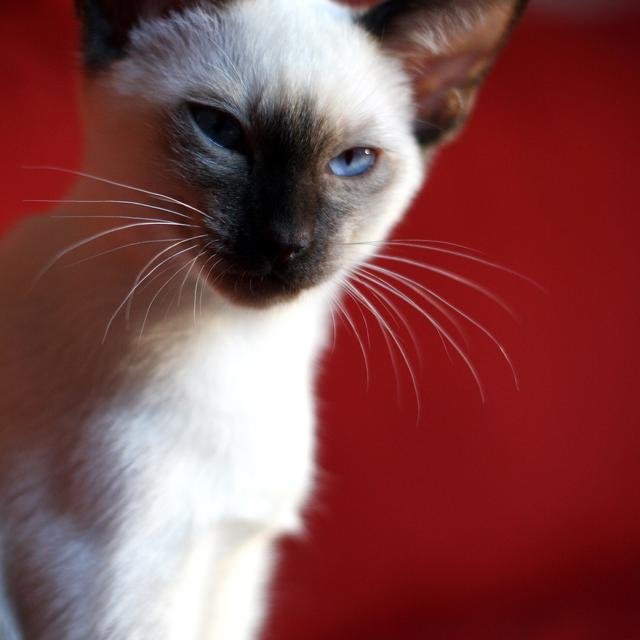animals: (89, 0, 524, 263)
